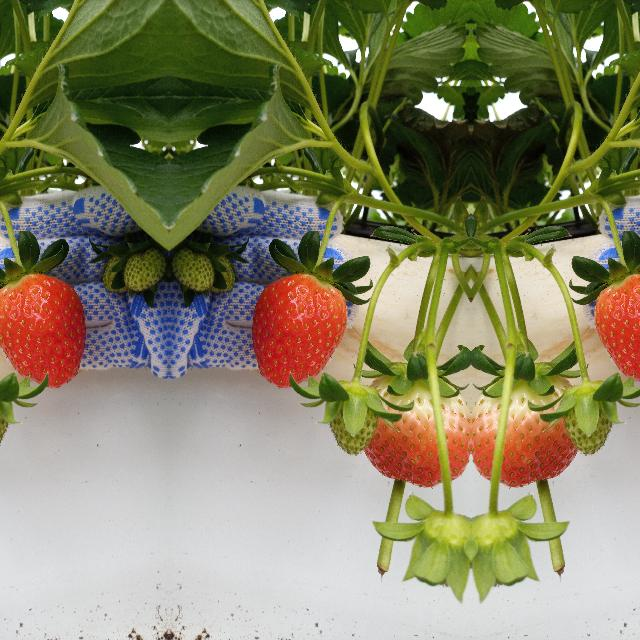Health_100: (471, 358, 574, 504), (368, 358, 470, 504), (250, 274, 348, 388), (0, 273, 85, 388), (593, 273, 640, 388)
